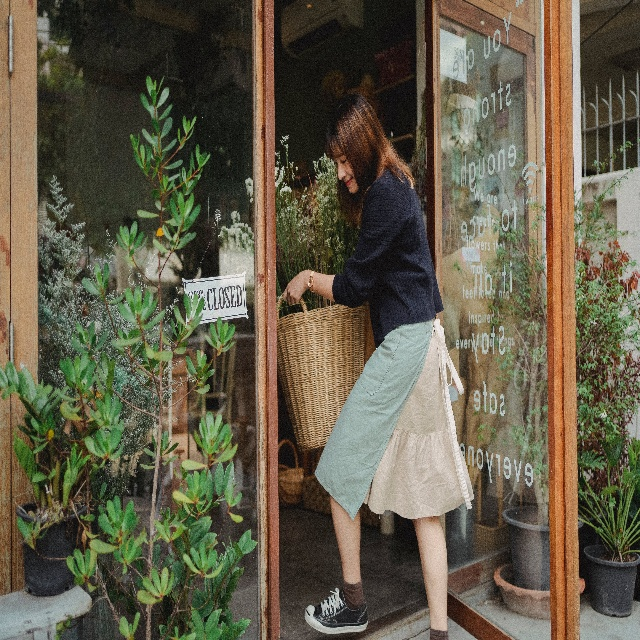Sin_guantes: (282, 269, 308, 303)
